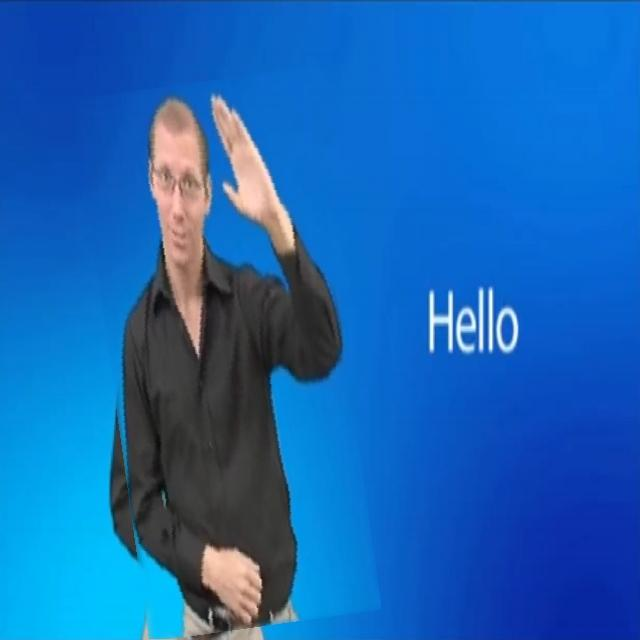Hello: (92, 74, 363, 636)
